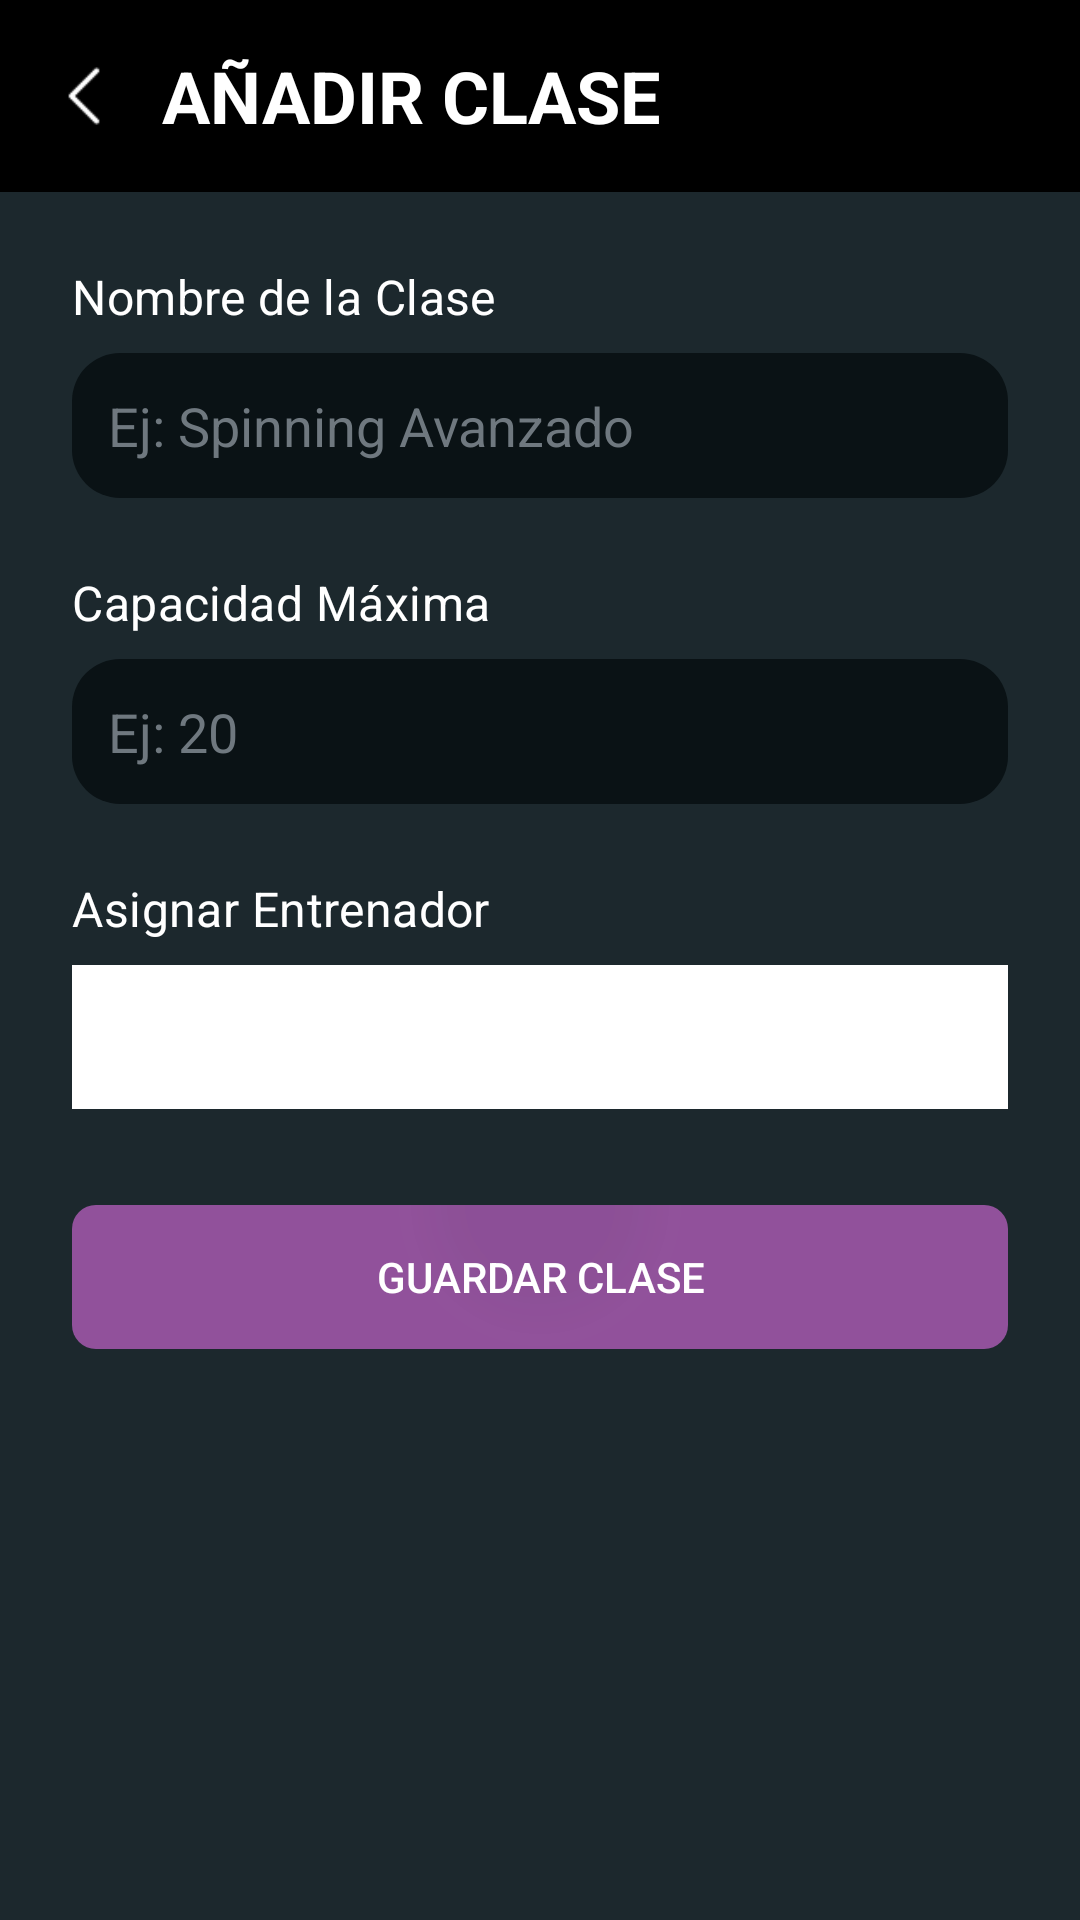

Screen size 1080×1920. Icon name, then its center in pixels as (x=x, y=y):
atras: (x=84, y=96)
